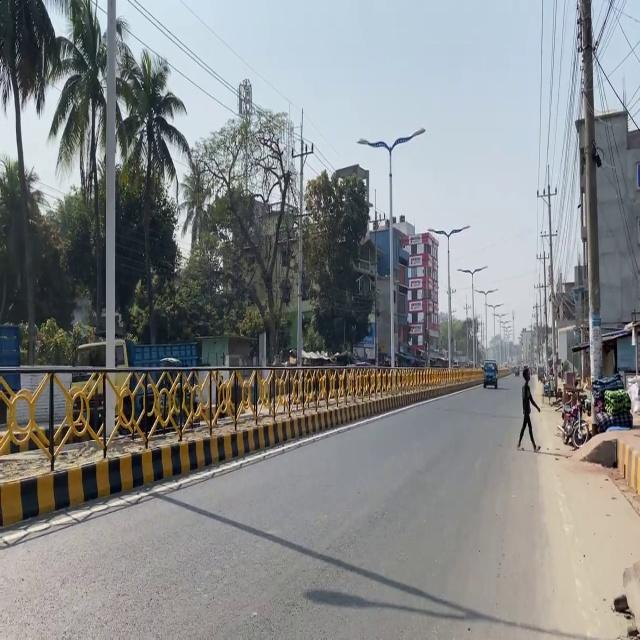Fallen-tree: (481, 361, 498, 388), (512, 365, 519, 376)
Garbage-bin: (516, 366, 541, 451)
Light-pole: (575, 1, 603, 433), (102, 0, 118, 445)
Pole: (4, 344, 416, 526)
Traffic-cone: (69, 337, 203, 435)
